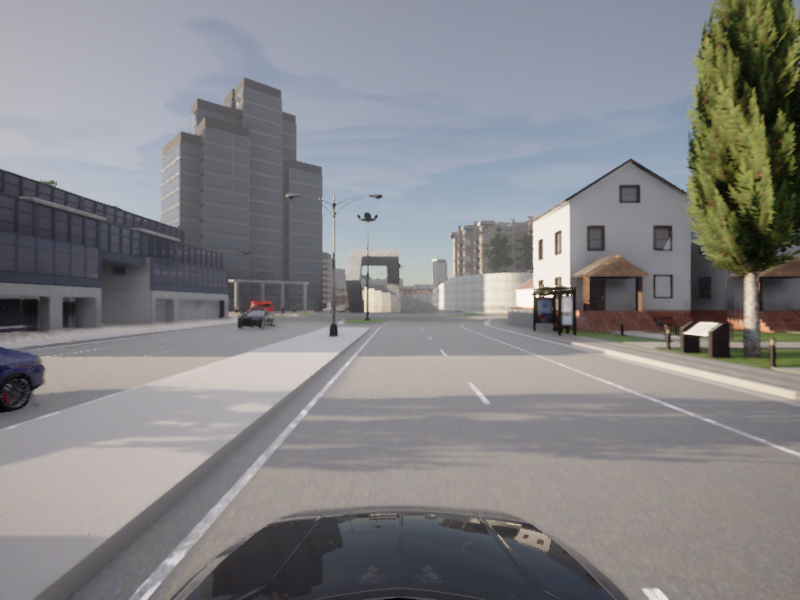vehicle: (0, 0, 799, 568), (0, 330, 65, 514), (232, 308, 277, 330)
